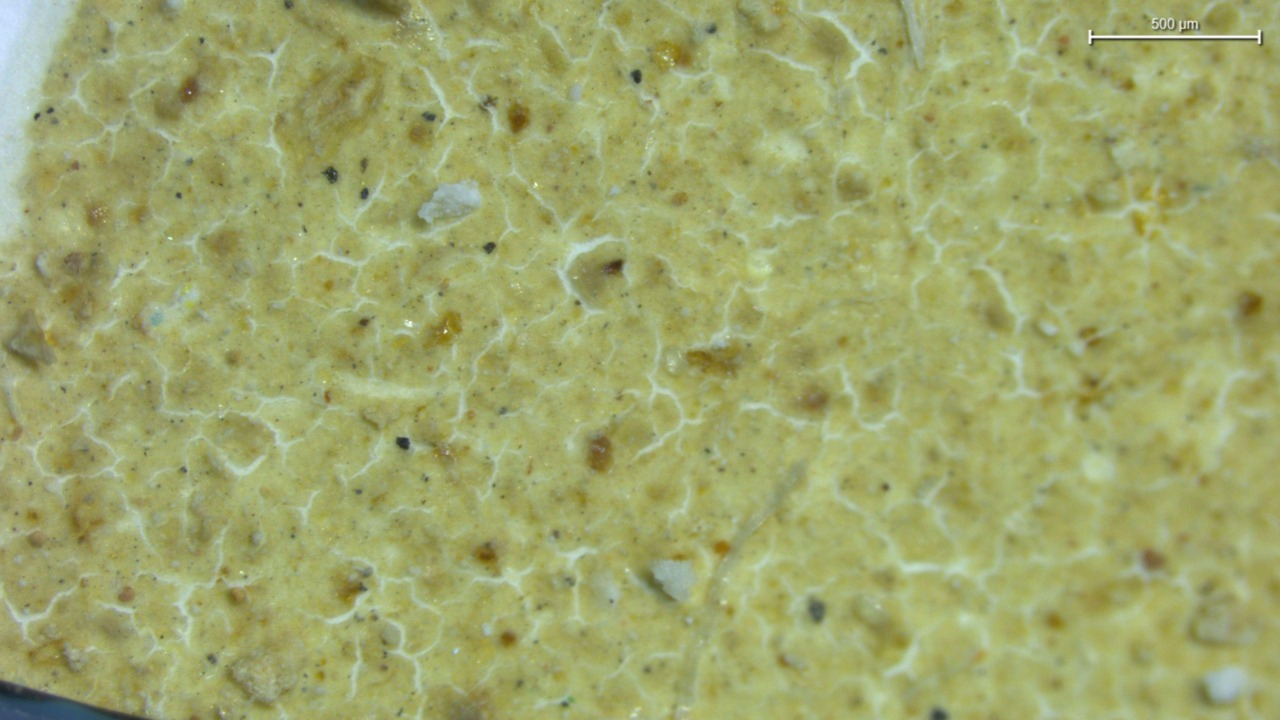microplastic_fragment: (411, 177, 484, 230), (649, 560, 695, 600)
